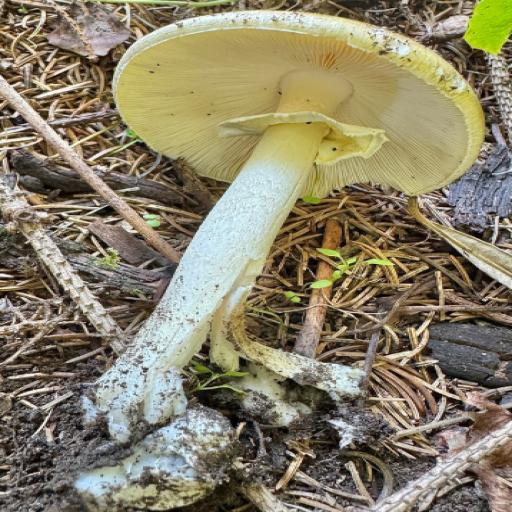mushroom: (25, 0, 489, 512)
